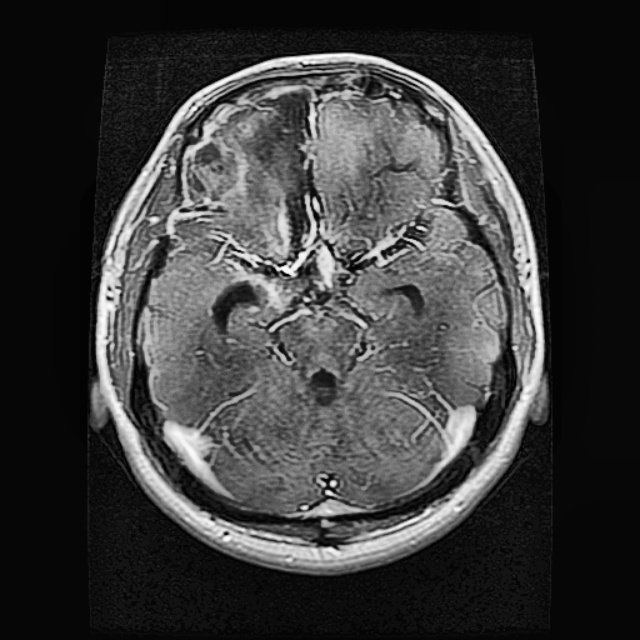Glioma: (182, 89, 313, 263)
